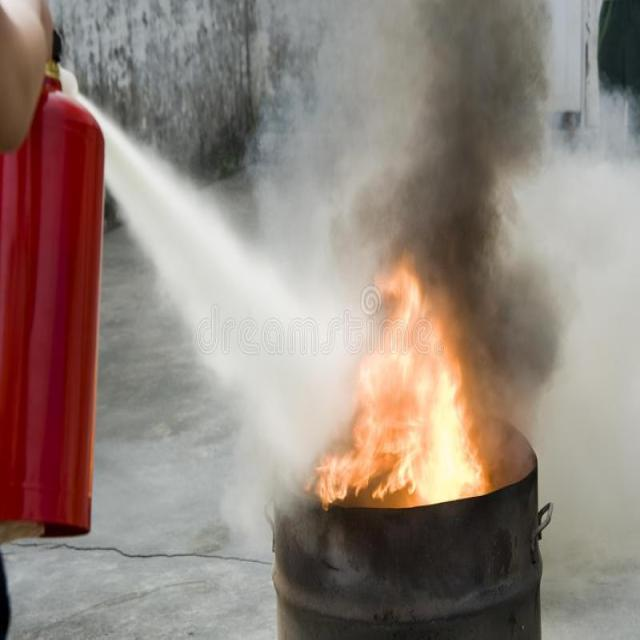fire_extinguisher: (0, 15, 113, 548)
